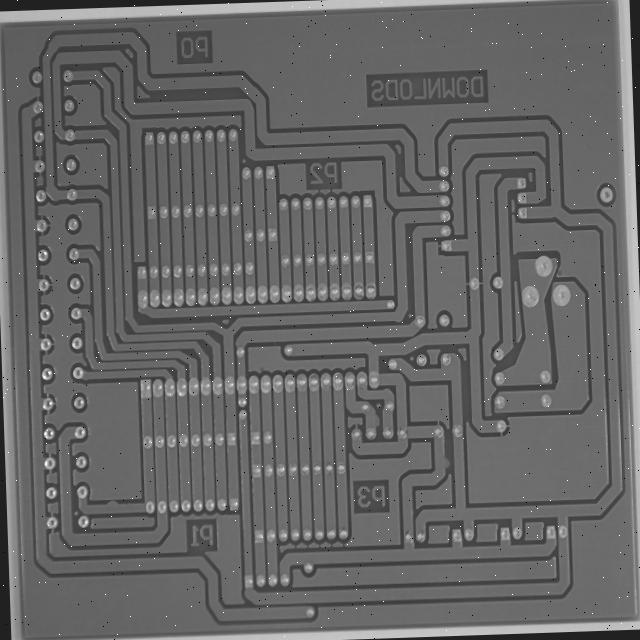spur: (450, 446, 464, 469), (378, 402, 393, 422), (105, 491, 124, 506)
